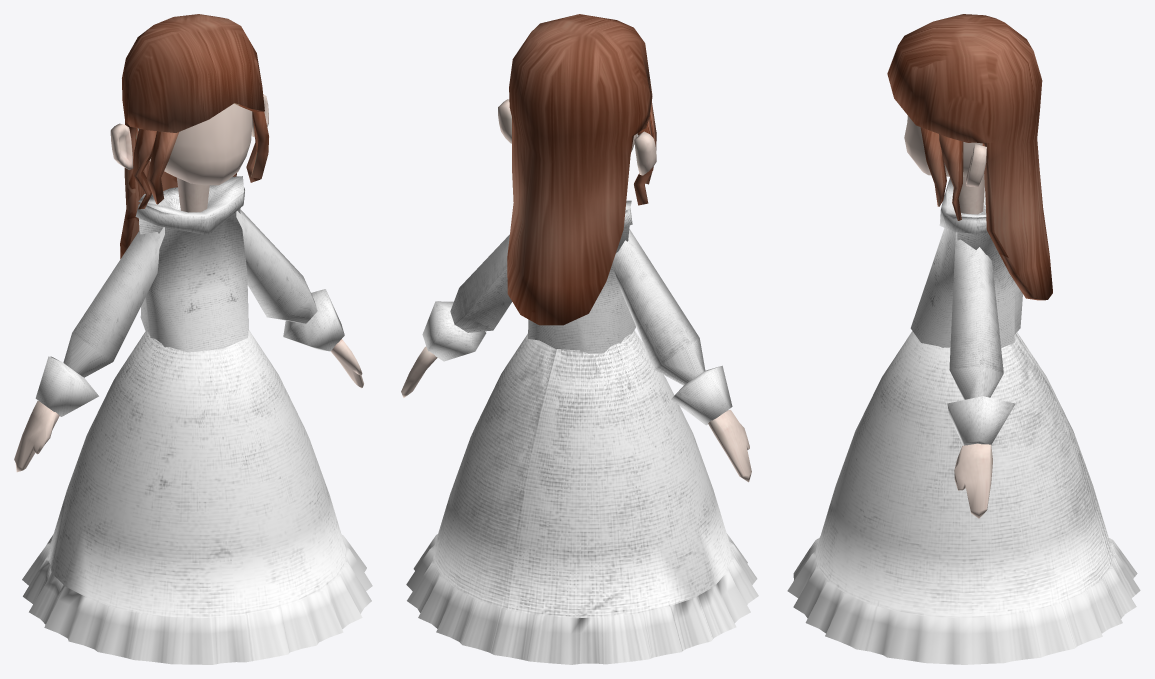
Rendered from fantasma_nena_lowpoly (1).fbx.
3 views of the same model, side by side, from view 1: azimuth 30°, elevation 25°; view 2: azimuth 150°, elevation 25°; view 3: azimuth 270°, elevation 25° (orthographic).
Visible parts, largest first — view 1: Cone, pelo, brazos, cuepo, Cube.001, orejas, Cylinder.002; view 2: Cone, pelo, brazos, cuepo, orejas; view 3: Cone, pelo, brazos, cuepo, Cube.001, Cylinder.002, orejas.
Boxes of the visible parts, bbox=[...] form: Cone: bbox=[22, 329, 372, 664]; pelo: bbox=[120, 14, 268, 258]; brazos: bbox=[14, 210, 363, 472]; cuepo: bbox=[135, 176, 248, 352]; Cube.001: bbox=[137, 103, 252, 185]; orejas: bbox=[110, 94, 268, 169]; Cylinder.002: bbox=[177, 177, 209, 212]; Cone: bbox=[406, 330, 758, 664]; pelo: bbox=[507, 14, 656, 325]; brazos: bbox=[401, 229, 751, 482]; cuepo: bbox=[528, 200, 635, 353]; orejas: bbox=[498, 99, 656, 175]; Cone: bbox=[787, 331, 1140, 664]; pelo: bbox=[887, 14, 1052, 300]; brazos: bbox=[947, 232, 1015, 518]; cuepo: bbox=[910, 178, 1022, 347]; Cube.001: bbox=[904, 115, 982, 176]; Cylinder.002: bbox=[958, 174, 984, 214]; orejas: bbox=[966, 144, 986, 186].
Size of the model in its own units: 187 by 295 by 167.
